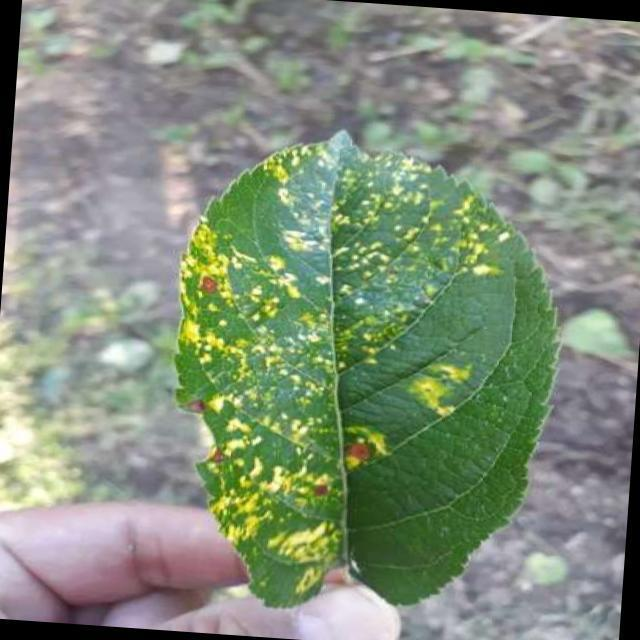Mosaic Virus: (174, 111, 533, 620)
